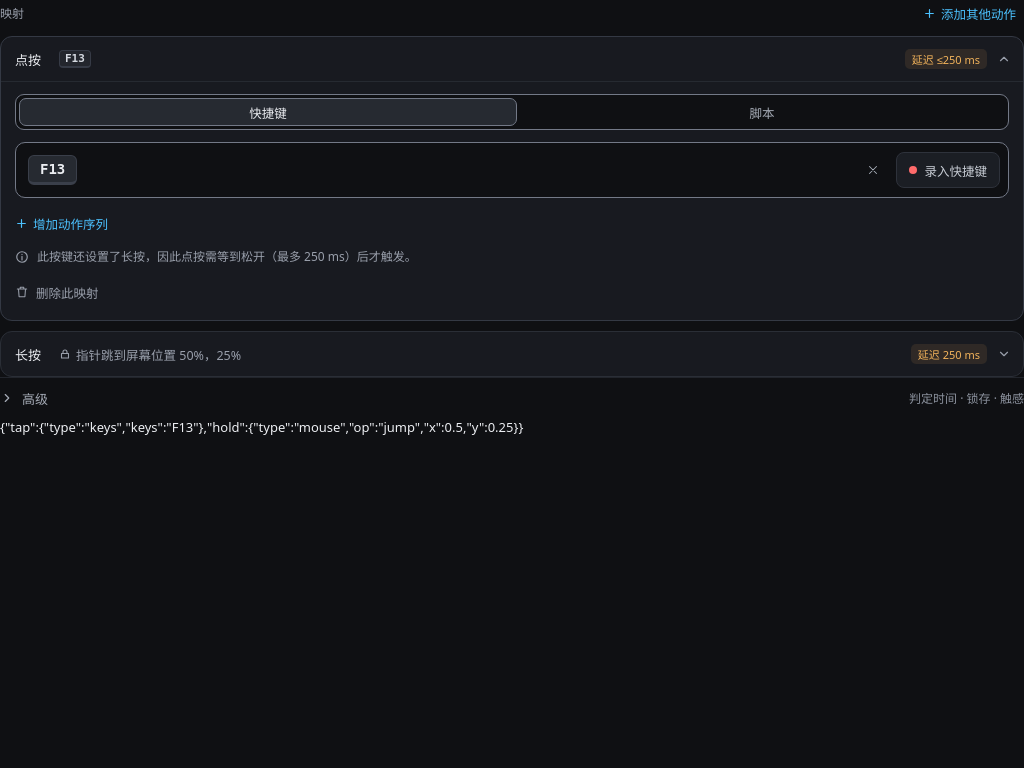
Test case: the actions on offer › show a pointer jump of the file locked, as a profile switch is
Expected: the element with class "drawer-summary-locked" reads "指针跳到屏幕位置 50%，25%", [76,346,241,364]
Click the button "长按 指针跳到屏幕位置 50%，25% 延迟 250 ms" at (159, 355), box [1,332,1023,376]
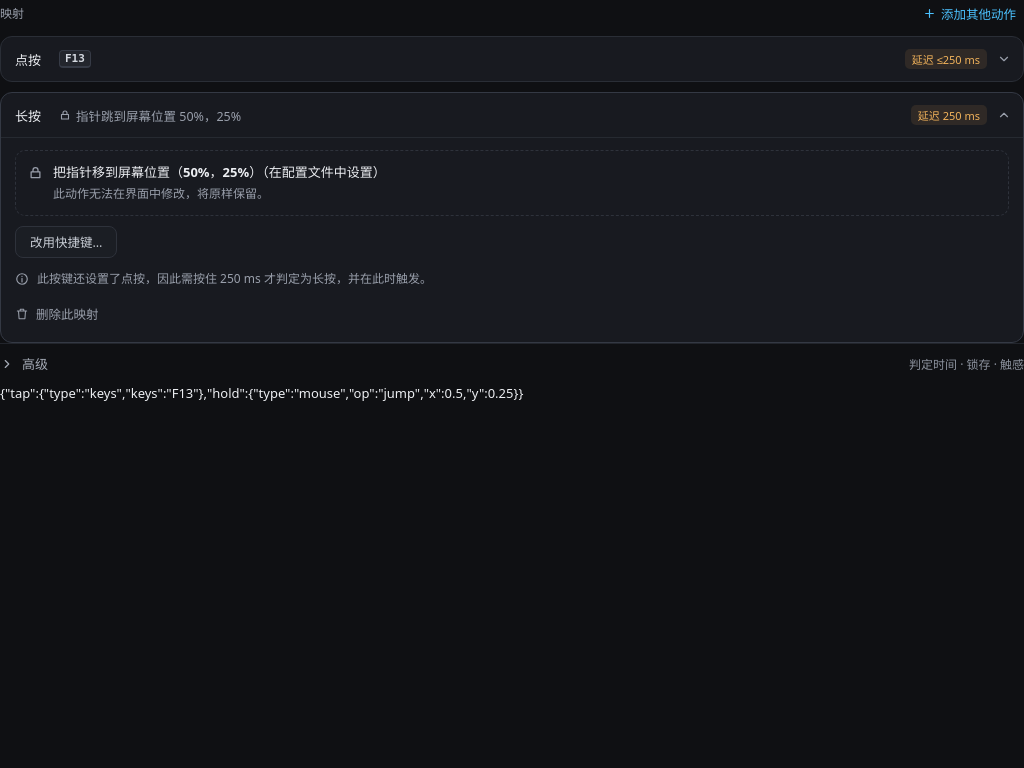
Now the element with test id "action-type" is gone
Now the element with test id "locked-action" shows "把指针移到屏幕位置（50%，25%）（在配置文件中设置）", box [53,163,386,181]
Click the button "删除此映射" at (57, 314), box [7,300,106,328]
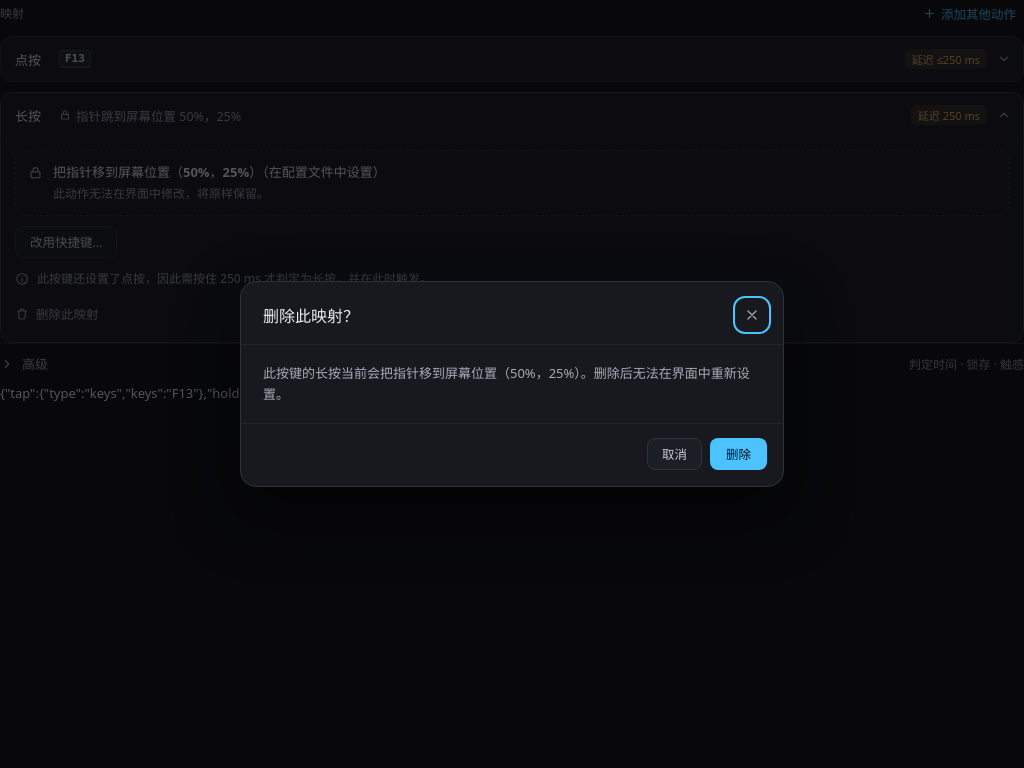
Now the dialog "删除此映射？" shows "此按键的长按当前会把指针移到屏幕位置（50%，25%）", box [263,364,750,403]
